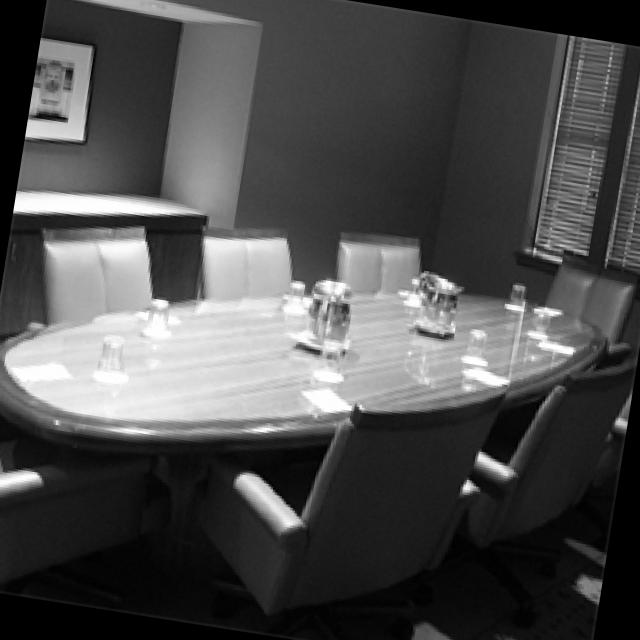2001: (528, 34, 640, 284)
cabinet door: (0, 188, 206, 328)
chair: (32, 221, 155, 322), (540, 247, 636, 342), (194, 222, 294, 298), (334, 227, 421, 294)
chair -occluded-: (196, 382, 503, 640), (419, 352, 632, 625), (0, 432, 144, 583)
conference table: (0, 282, 606, 576)
glass ceiling: (136, 298, 173, 340), (91, 333, 122, 372), (459, 324, 486, 359), (525, 308, 550, 338), (505, 281, 523, 304)
painting crop: (24, 30, 99, 146)
paper cup with straws: (9, 357, 66, 379), (299, 385, 347, 410), (456, 366, 506, 382), (534, 336, 572, 354)
pitcher: (305, 274, 350, 342), (415, 268, 460, 335)
